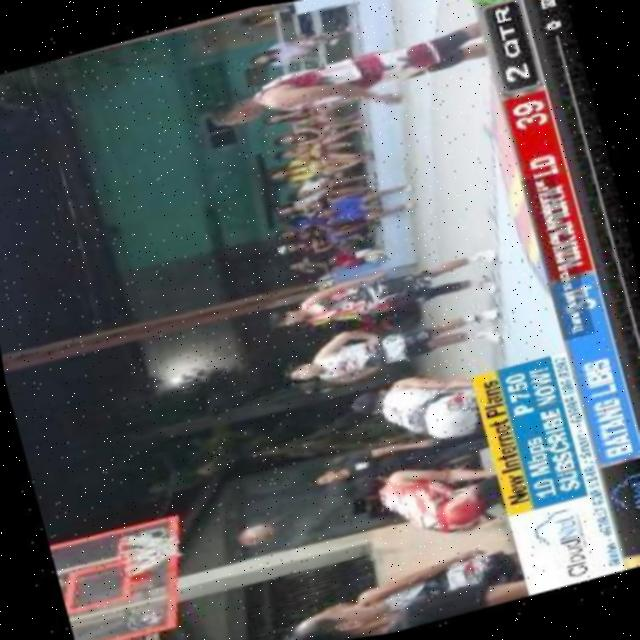ball: (230, 515, 284, 555)
hoop: (114, 528, 142, 582)
